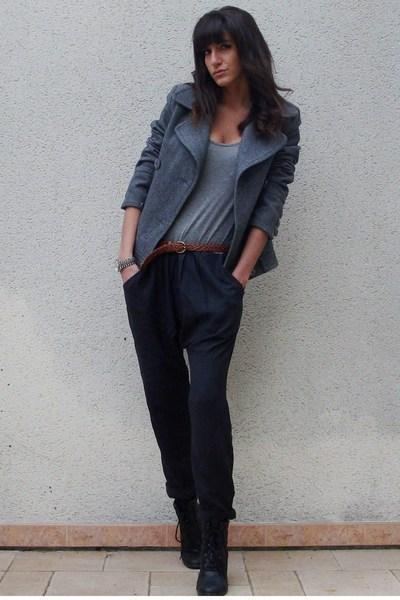jacket: (121, 83, 299, 279)
pants: (123, 228, 244, 528)
shirt: (170, 137, 244, 249)
shoe: (173, 496, 227, 575)
